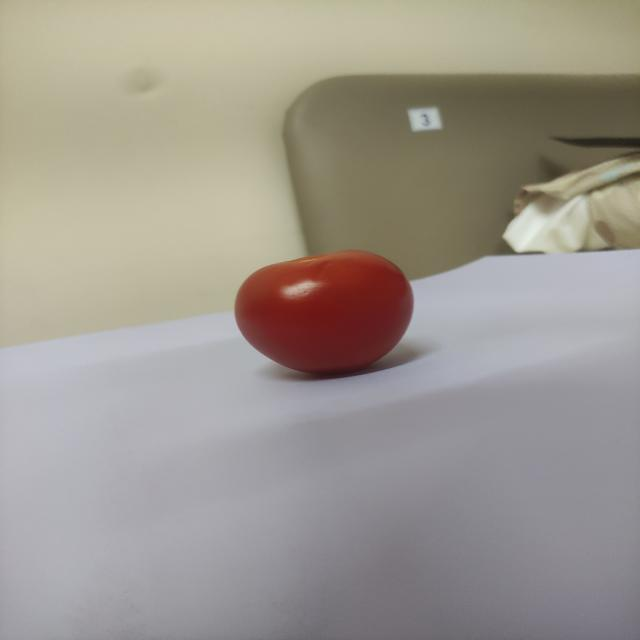kirmizi: (208, 241, 411, 375)
